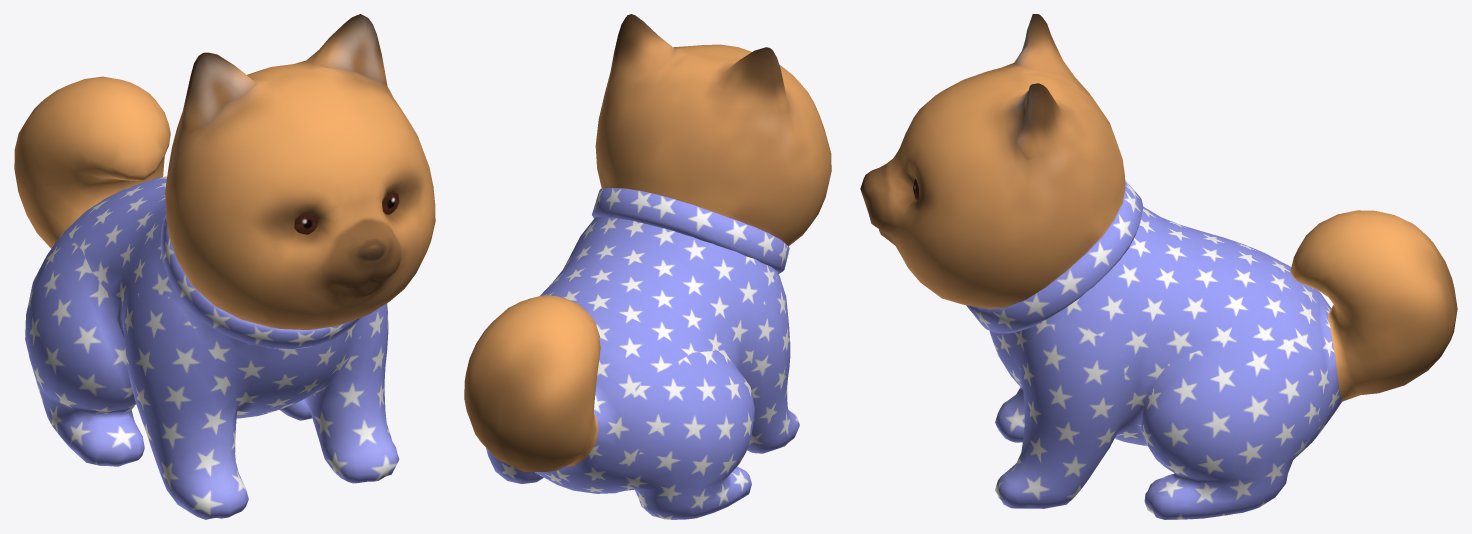
3 views of the same model, side by side, from view 1: azimuth 30°, elevation 25°; view 2: azimuth 150°, elevation 25°; view 3: azimuth 270°, elevation 25° (orthographic). The views are drawn at different scales.
Parts seen in each view (by area): view 1: dog2, Group18985_default_0, Object001_default_0; view 2: dog2, Group18985_default_0; view 3: dog2, Group18985_default_0.
Boxes of the visible parts, <box> form: dog2: <box>14,14,435,519</box>; Group18985_default_0: <box>160,211,362,349</box>; Object001_default_0: <box>294,192,399,234</box>; dog2: <box>464,14,831,519</box>; Group18985_default_0: <box>592,188,789,273</box>; dog2: <box>860,14,1457,519</box>; Group18985_default_0: <box>966,181,1143,333</box>.
Size of the model in its own units: 0.9209 by 1.38 by 1.77.
1 material, 1 textured.
